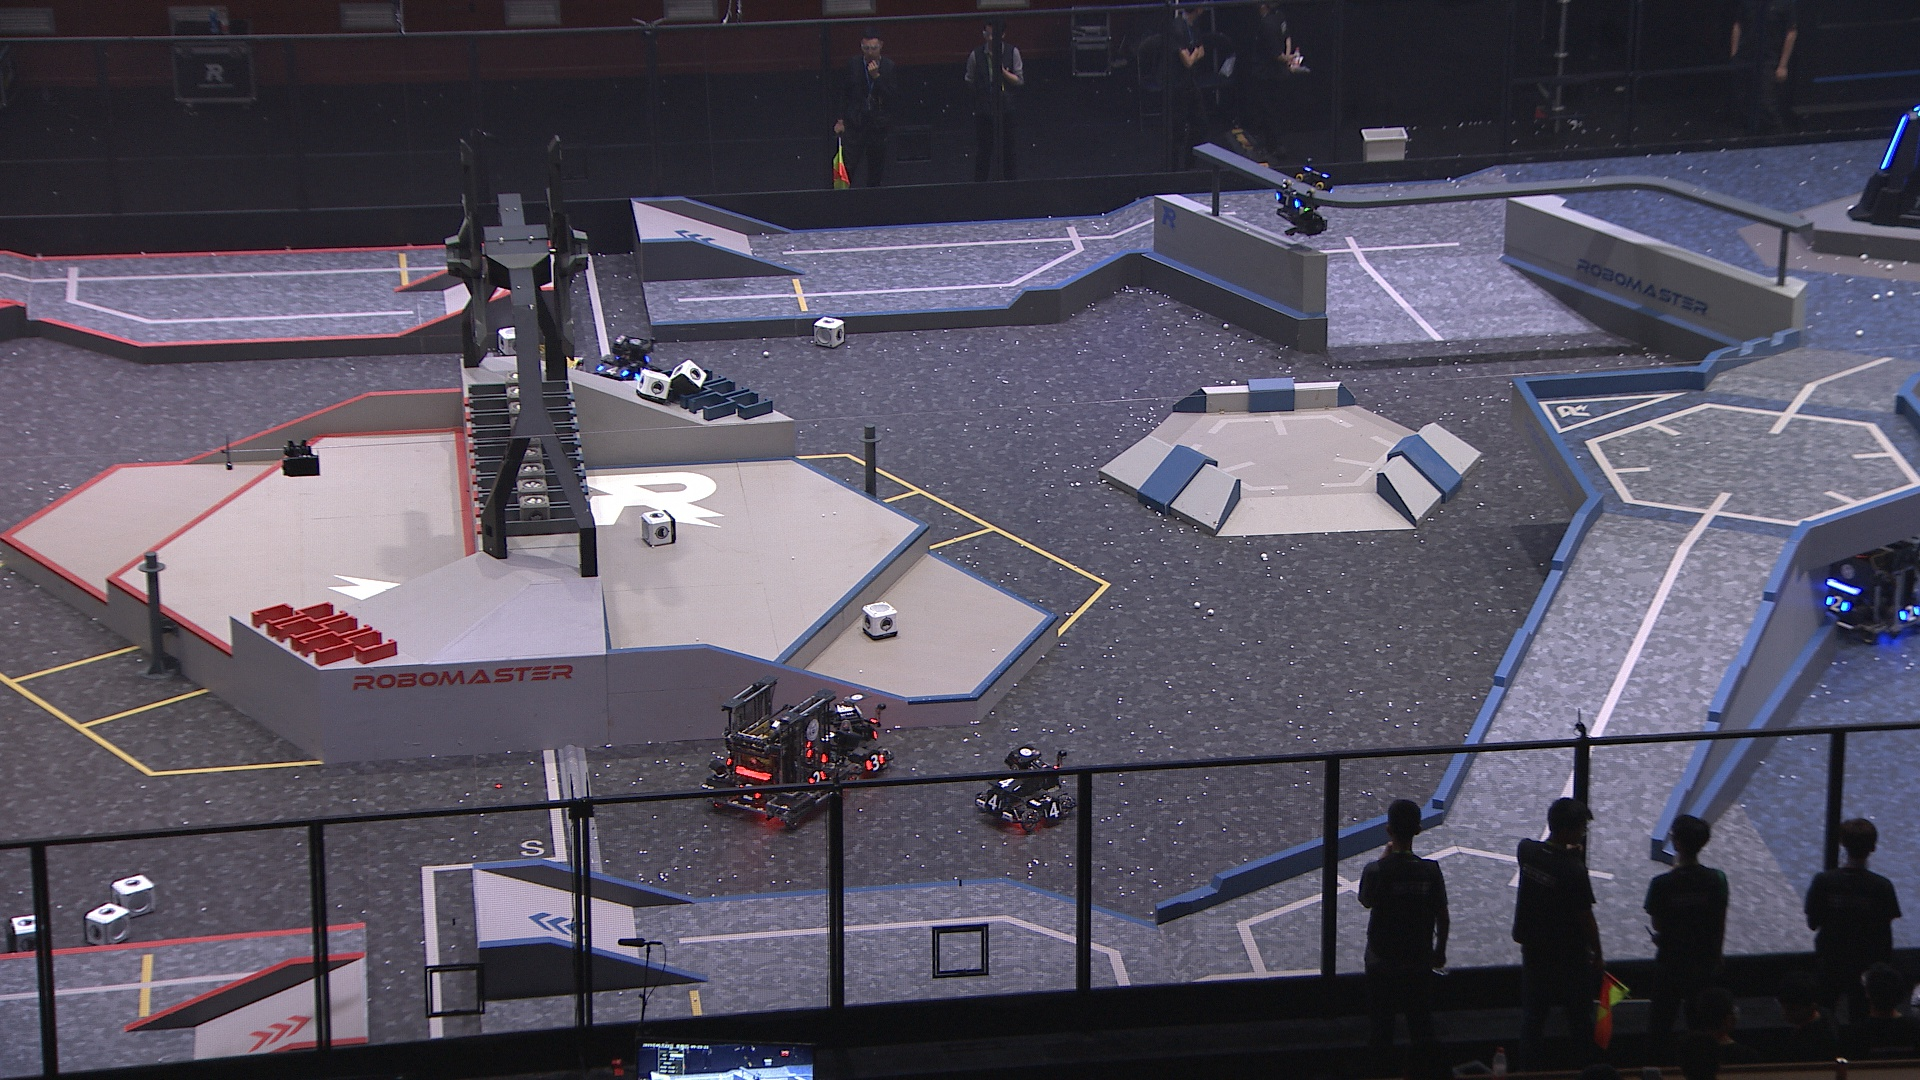armor: (1879, 112, 1912, 171), (736, 781, 765, 803), (996, 774, 1025, 796), (1825, 593, 1851, 617), (1275, 187, 1302, 211), (593, 363, 629, 380), (862, 749, 887, 773), (1038, 800, 1063, 822), (1898, 603, 1920, 622), (986, 789, 1005, 812), (804, 766, 827, 785)
base: (1847, 105, 1920, 225)
car: (703, 676, 844, 831), (1813, 518, 1920, 645), (951, 740, 1081, 839), (807, 692, 897, 785), (582, 334, 678, 410)
watcher: (1271, 158, 1337, 237)
